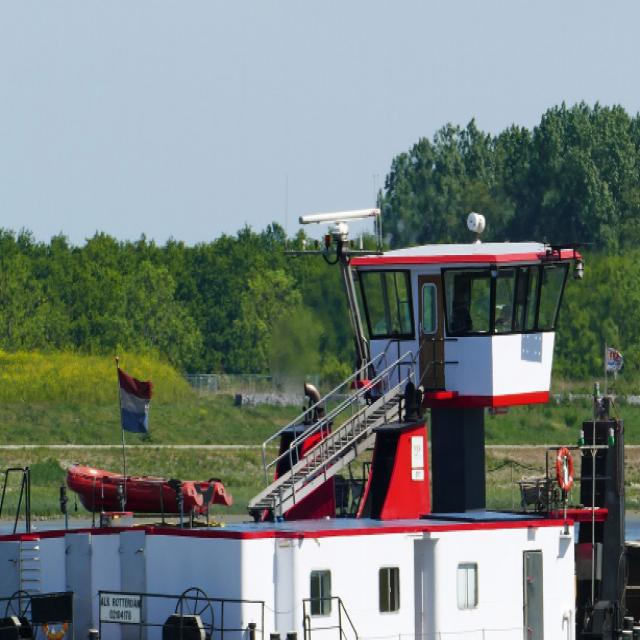tugboat: (1, 200, 640, 640)
